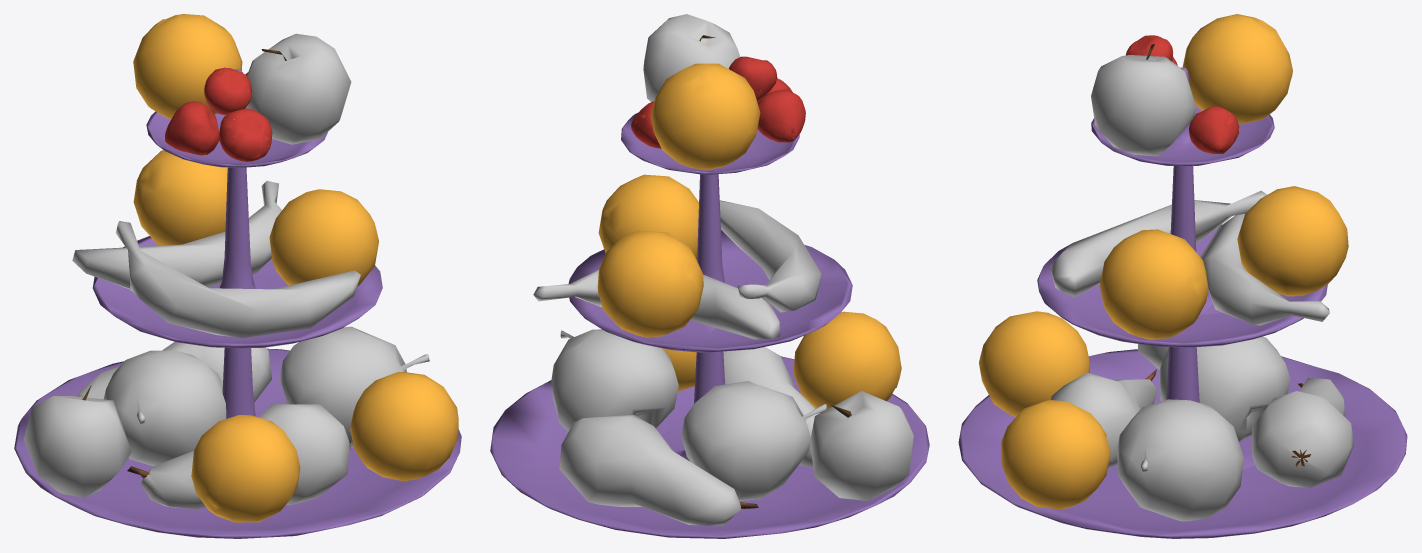
The model's file is FruitBowl_LOD2.fbx.
3 renders of one model, left to right at view 1: azimuth 30°, elevation 25°; view 2: azimuth 150°, elevation 25°; view 3: azimuth 270°, elevation 25°, orthographic. The views are drawn at different scales.
Visible parts, largest first — view 1: fruit_bowl, Banana1, Pear1, Orange4, Orange5, Apple1, Apple2, Orange3, Pear2, Pear3, Orange1, Orange2 (+5 smaller); view 2: fruit_bowl, Pear4, Pear1, Pear2, Orange1, Orange2, Apple2, Orange5, Banana1, Orange3, Banana2, Apple1 (+5 smaller); view 3: fruit_bowl, Pear2, Orange2, Orange4, Orange3, Orange1, Pear4, Apple1, Orange5, Pear1, Banana2, Banana1 (+3 smaller).
Part boxes in pixels (left/top/right/bottom): fruit_bowl: left=14, top=69, right=461, bottom=538; Banana1: left=116, top=221, right=360, bottom=337; Pear1: left=103, top=350, right=226, bottom=466; Orange4: left=350, top=372, right=458, bottom=481; Orange5: left=191, top=415, right=300, bottom=522; Apple1: left=245, top=33, right=351, bottom=144; Apple2: left=23, top=385, right=131, bottom=497; Orange3: left=269, top=189, right=378, bottom=286; Pear2: left=279, top=326, right=429, bottom=447; Pear3: left=127, top=404, right=350, bottom=508; Orange1: left=133, top=14, right=242, bottom=119; Orange2: left=133, top=150, right=227, bottom=245; fruit_bowl: left=490, top=112, right=929, bottom=538; Pear4: left=559, top=414, right=758, bottom=526; Pear1: left=681, top=381, right=827, bottom=501; Pear2: left=551, top=329, right=678, bottom=431; Orange1: left=650, top=63, right=760, bottom=170; Orange2: left=597, top=230, right=703, bottom=337; Apple2: left=810, top=391, right=913, bottom=500; Orange5: left=793, top=311, right=901, bottom=409; Banana1: left=719, top=200, right=821, bottom=312; Orange3: left=598, top=174, right=698, bottom=259; Banana2: left=533, top=270, right=780, bottom=339; Apple1: left=643, top=14, right=740, bottom=101; fruit_bowl: left=958, top=67, right=1407, bottom=538; Pear2: left=1117, top=399, right=1243, bottom=521; Orange2: left=1237, top=186, right=1348, bottom=296; Orange4: left=1001, top=399, right=1110, bottom=509; Orange3: left=1100, top=229, right=1208, bottom=339; Orange1: left=1182, top=14, right=1292, bottom=124; Pear4: left=1252, top=378, right=1354, bottom=487; Apple1: left=1091, top=44, right=1196, bottom=156; Orange5: left=979, top=311, right=1089, bottom=416; Pear1: left=1159, top=336, right=1290, bottom=442; Banana2: left=1200, top=214, right=1329, bottom=325; Banana1: left=1050, top=190, right=1266, bottom=296.
Bounding box in the file's own units: 28.84 × 30.67 × 28.29.
